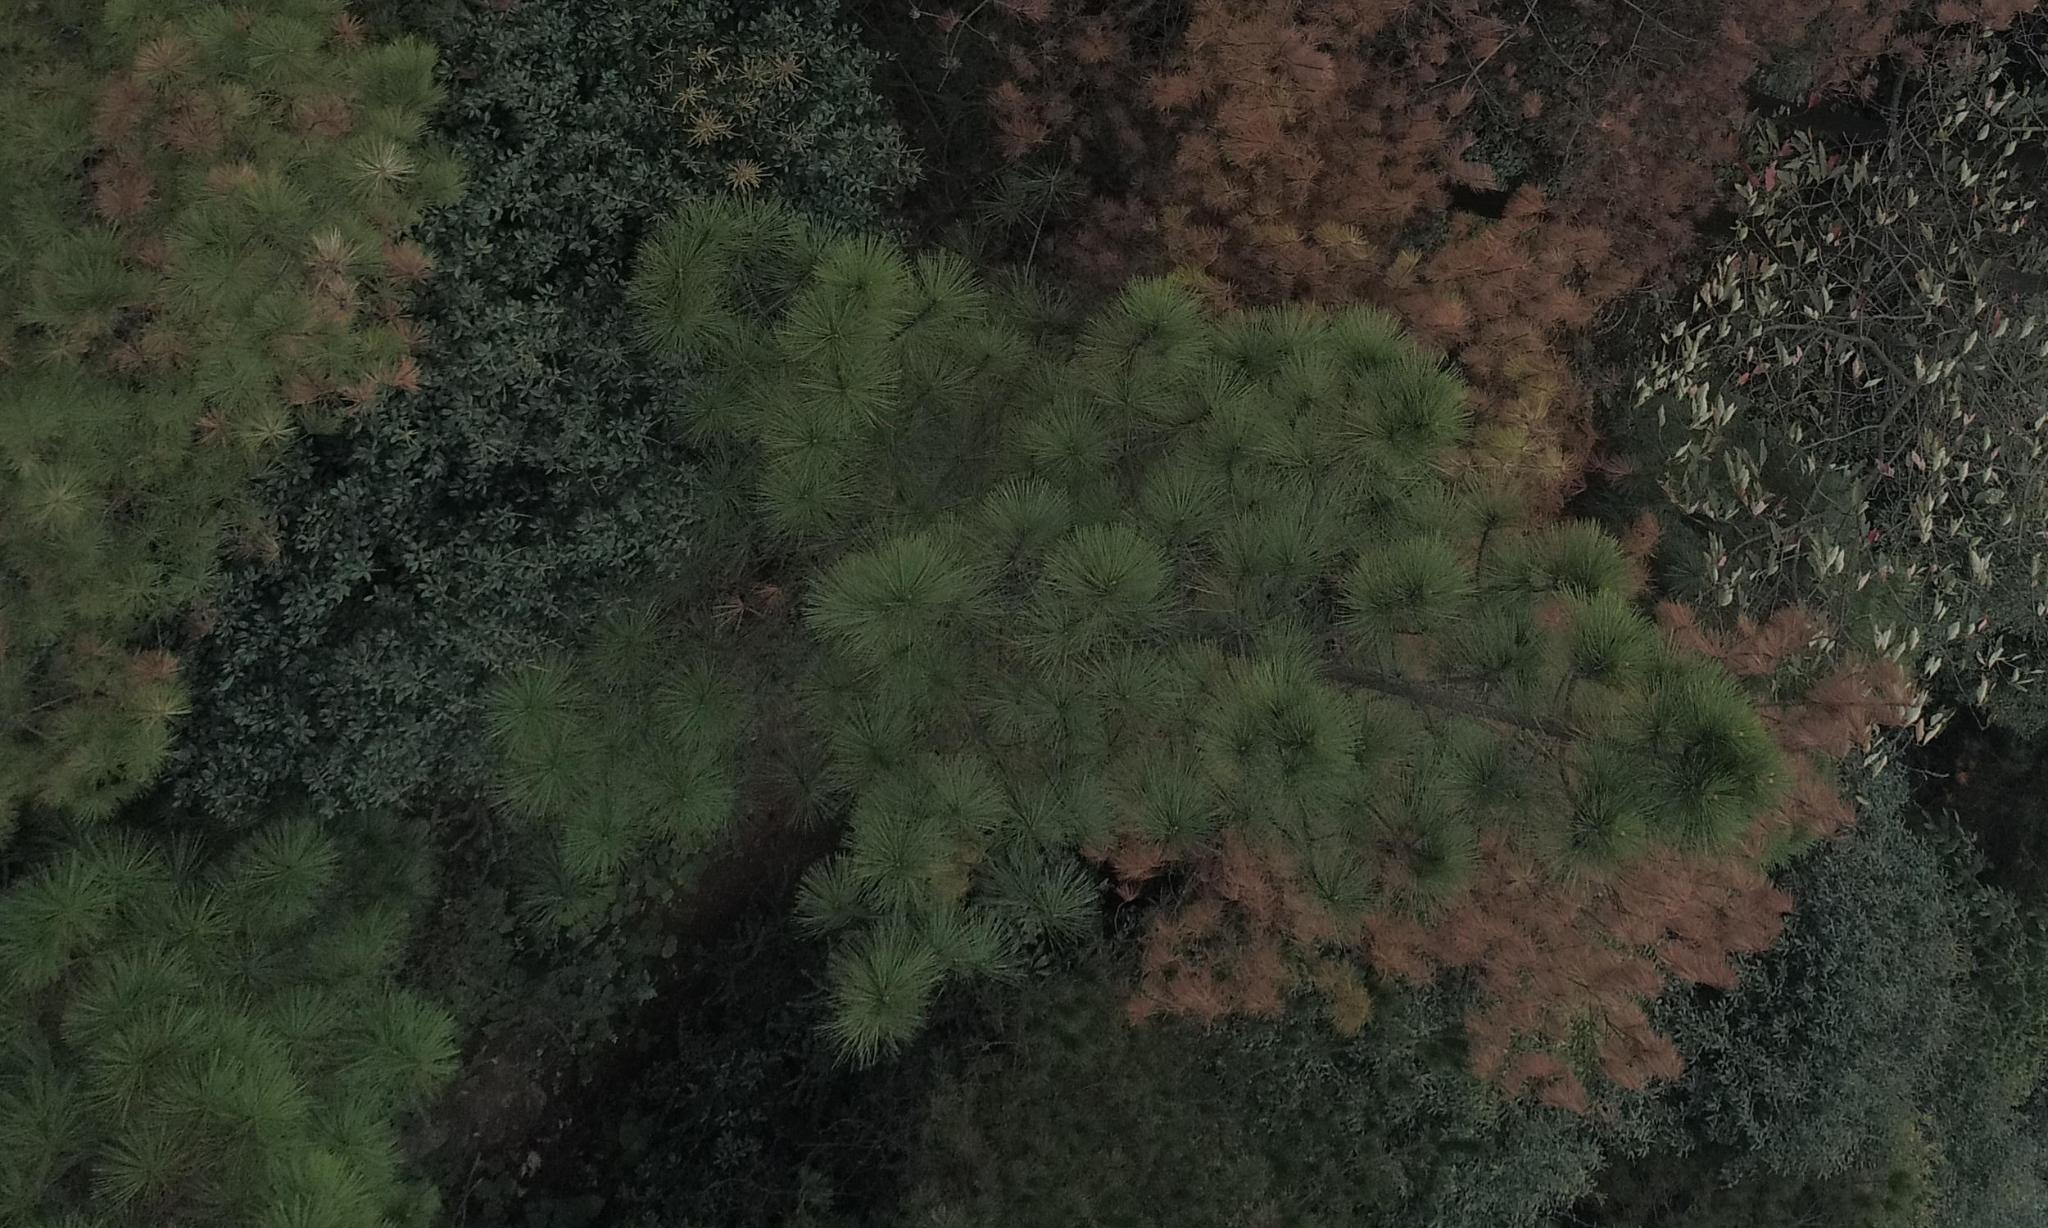heavy: (1014, 15, 1947, 469), (1095, 798, 1791, 1140)
light: (75, 20, 443, 440)
